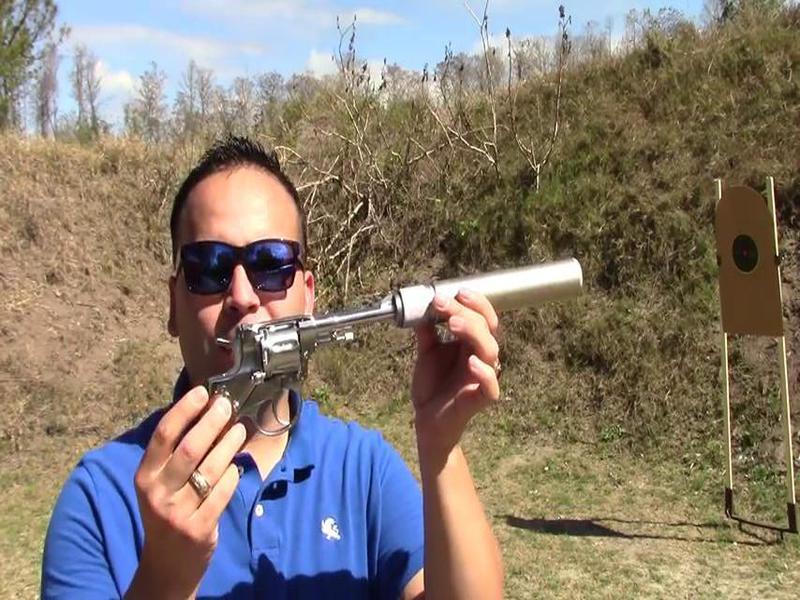Revolver: (199, 271, 412, 488)
